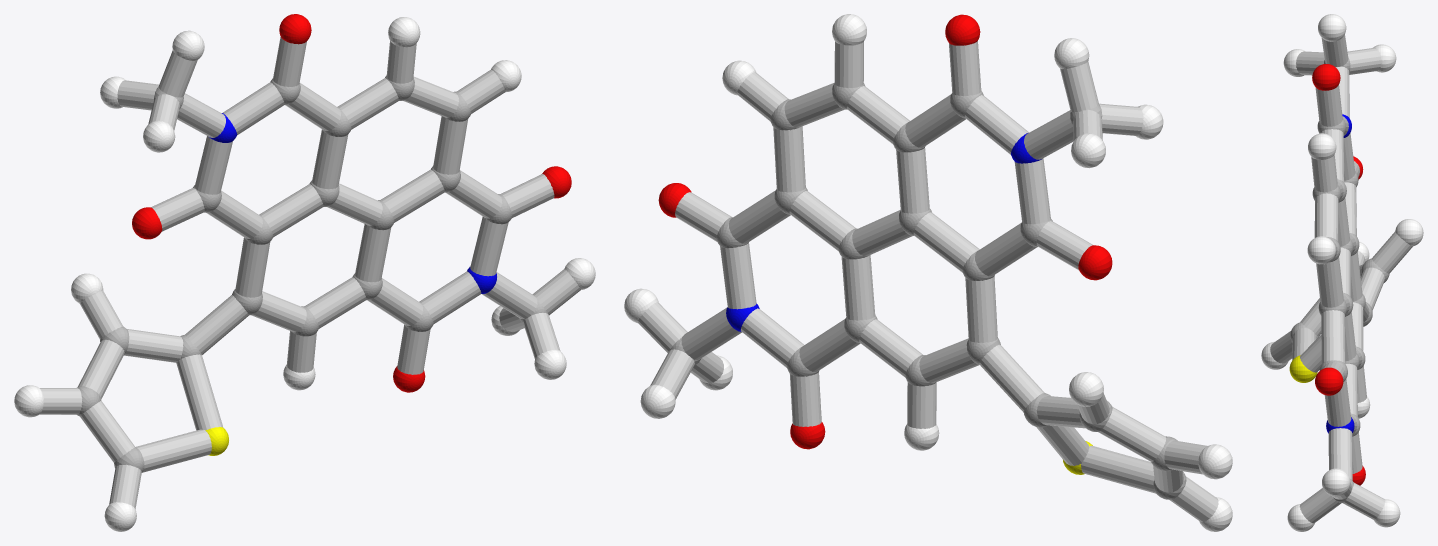
Rendered from Dimethyl_Naphthalene_Dicarboximide_Phi_25_Theta_40_Thiophene.glb.
3 views of the same model, side by side, from view 1: azimuth 30°, elevation 25°; view 2: azimuth 150°, elevation 25°; view 3: azimuth 270°, elevation 25° (orthographic). The views are drawn at different scales.
Visible parts, largest first — view 1: grp14119, grp7241, grp1, grp12309, grp11585; view 2: grp14119, grp7241, grp1, grp12309, grp11585; view 3: grp14119, grp7241, grp1, grp12309, grp13757, grp11585.
Part boxes in pixels (bbox=[...]): grp14119: bbox=[39, 37, 580, 508]; grp7241: bbox=[14, 17, 595, 531]; grp1: bbox=[77, 75, 547, 472]; grp12309: bbox=[132, 14, 571, 392]; grp11585: bbox=[209, 113, 496, 293]; grp14119: bbox=[637, 41, 1218, 521]; grp7241: bbox=[624, 14, 1232, 531]; grp1: bbox=[669, 83, 1186, 499]; grp12309: bbox=[658, 14, 1112, 449]; grp11585: bbox=[726, 133, 1041, 331]; grp14119: bbox=[1270, 34, 1412, 523]; grp7241: bbox=[1261, 14, 1423, 531]; grp1: bbox=[1290, 58, 1389, 502]; grp12309: bbox=[1312, 64, 1365, 485]; grp13757: bbox=[1289, 355, 1317, 382]; grp11585: bbox=[1326, 114, 1354, 433].
Size of the model in its own units: 12.14 by 9.23 by 3.42.
